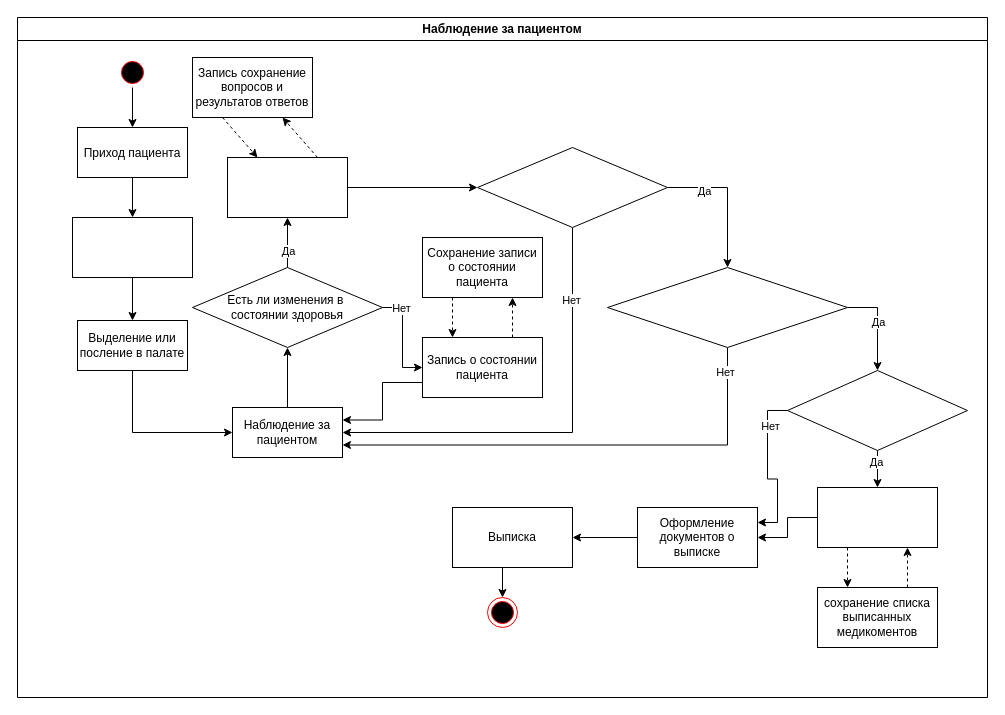
Image size: 1005x715. Some labels were removed from this diagram. The shapes that lost their labels are listed below. From the top down, each one's centre as x and y in pixels, then its label:
(287,187): Вопросы и ответы пациенту о его состоянии здоровья
(572,187): Состояние состояние улучшилось
(132,247): Оформление документов
(727,307): Состояние улучшилось на столько что можно выписать
(877,410): Нужны ли медикоменты
(877,517): Запись медикоментов
